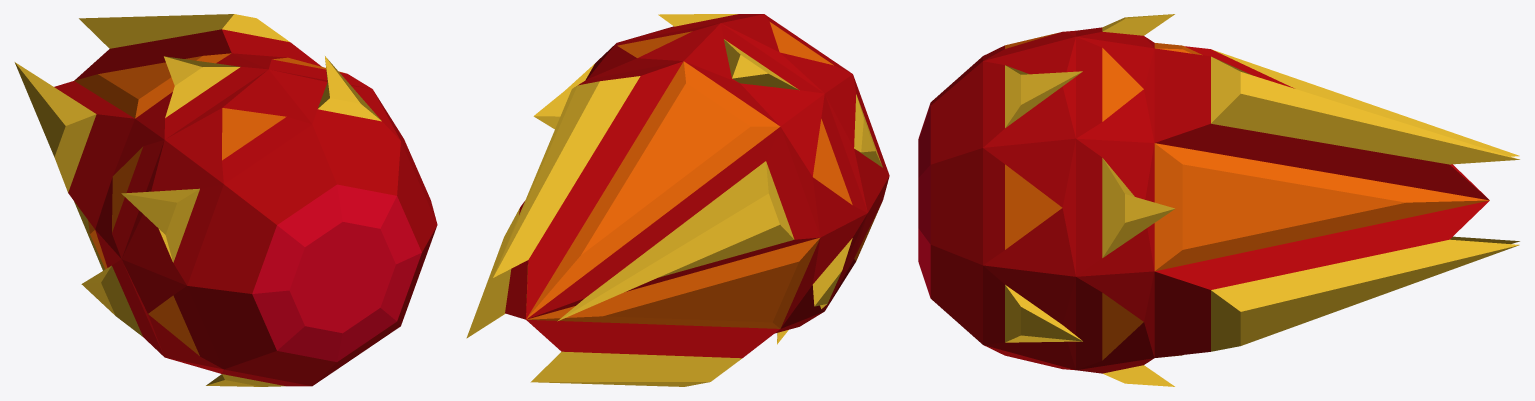
Rendered from FireBall.fbx.
3 renders of one model, left to right at view 1: azimuth 30°, elevation 25°; view 2: azimuth 150°, elevation 25°; view 3: azimuth 270°, elevation 25°, orthographic. The views are drawn at different scales.
Visible parts, largest first — view 1: Cone; view 2: Cone; view 3: Cone.
Boxes of the visible parts, x1=… form: Cone: x1=14, y1=14, x2=437, y2=386; Cone: x1=466, y1=14, x2=889, y2=386; Cone: x1=918, y1=14, x2=1519, y2=386.
Size of the model in its own units: 215 by 215 by 359.
